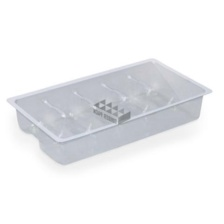plastic_box: (0, 51, 218, 171)
